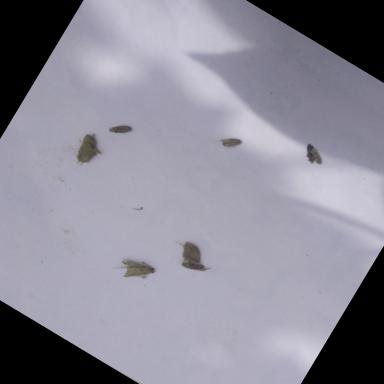pbw: (108, 247, 156, 291), (69, 129, 108, 172), (178, 240, 208, 268), (179, 254, 210, 280), (106, 116, 134, 142), (216, 130, 242, 154), (300, 143, 322, 165), (306, 146, 326, 165)
